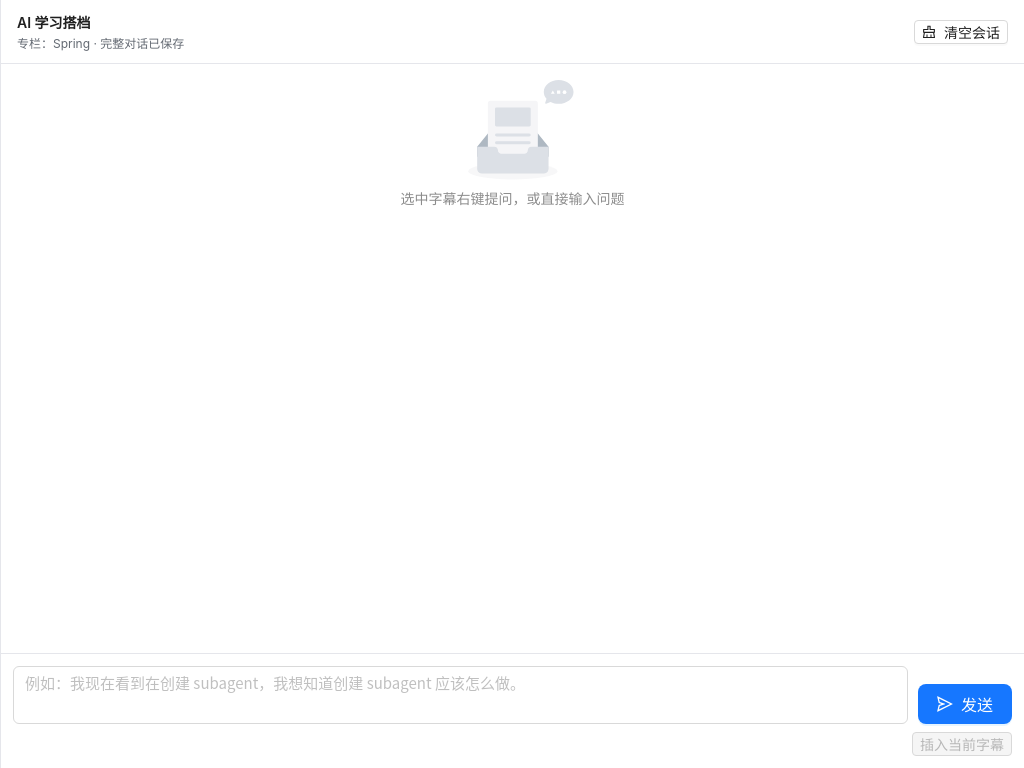
it: AI 侧栏模型降级 › 流中断时清空残片并显示下级模型完整答案
Expected: the button "发送" is enabled, [918,684,1012,724]
Type "问题" into the text box. click: x=460, y=695
box: [13,666,908,724]
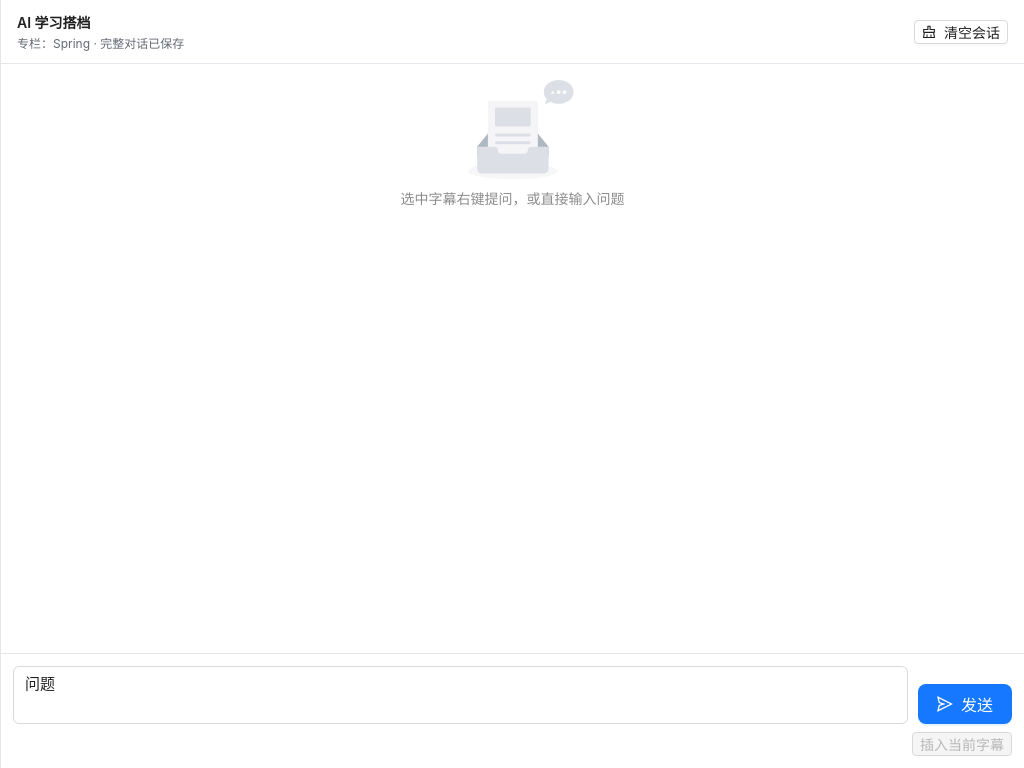
Click the button "发送". click: x=965, y=704
box: [918,684,1012,724]
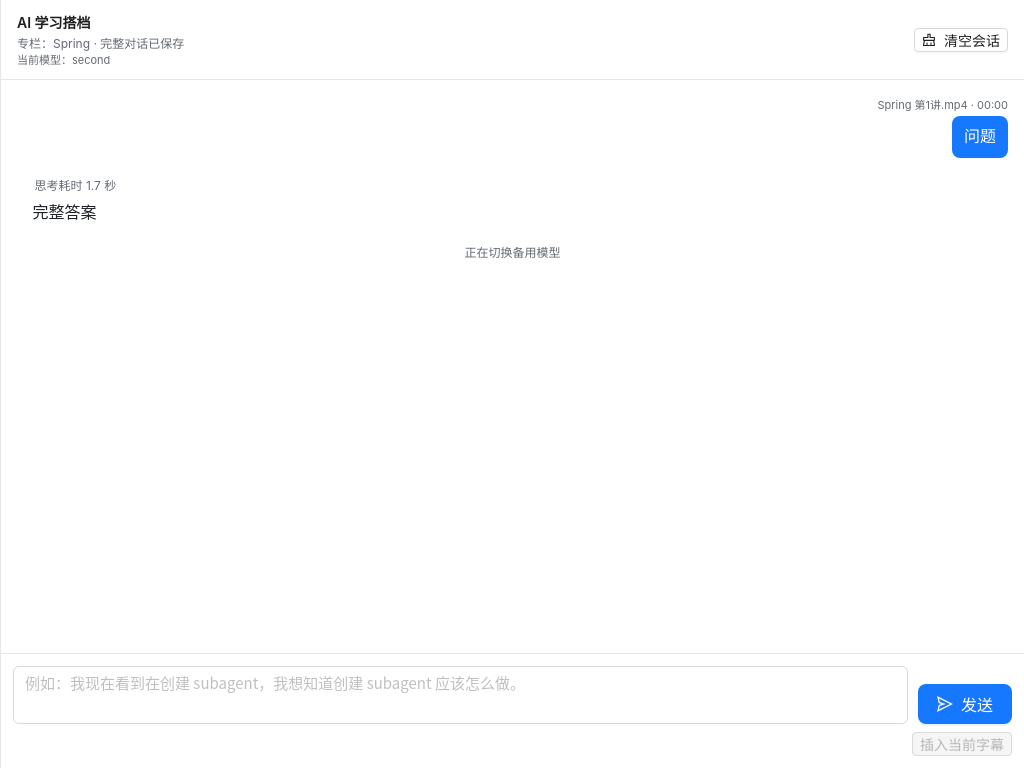
Result: the text "完整答案" is shown at [32,199,96,223]
Result: the text "思考耗时 1.7 秒" is shown at [34,178,116,193]
Result: the text "当前模型：second" is shown at [17,53,110,67]
